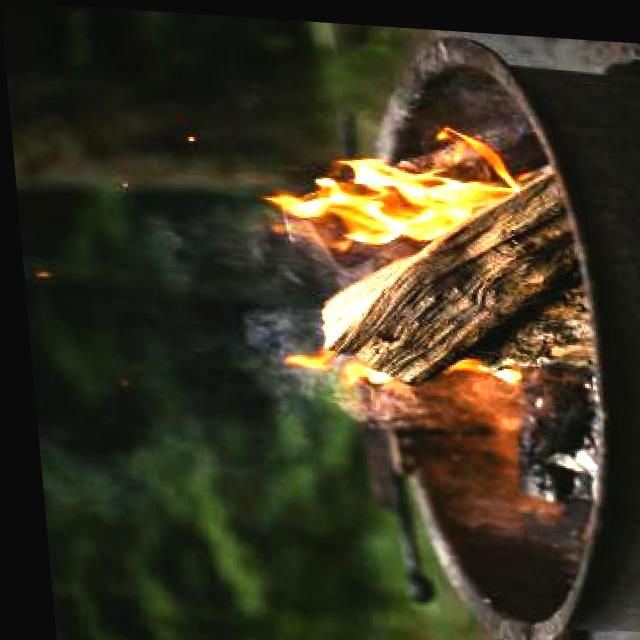helmet: (264, 123, 522, 251), (262, 329, 514, 394)
